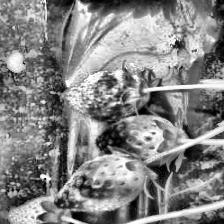Powdery Mildew Fruit: (53, 154, 149, 213), (59, 69, 151, 122)
